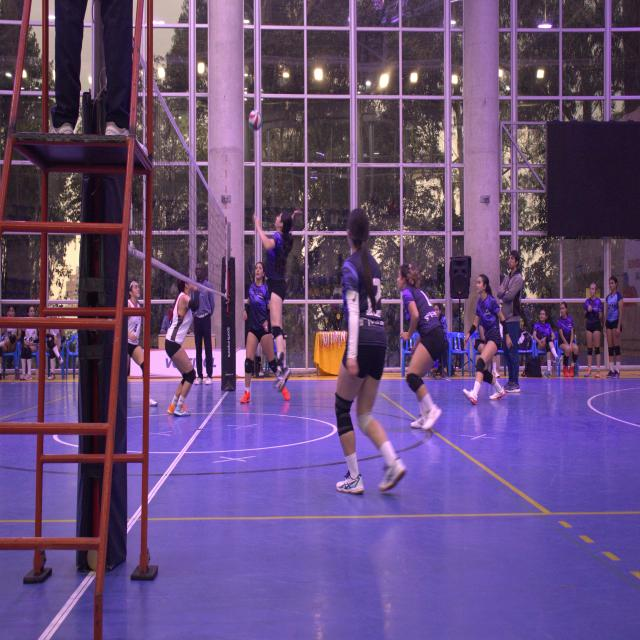volleyball: (248, 110, 263, 130)
